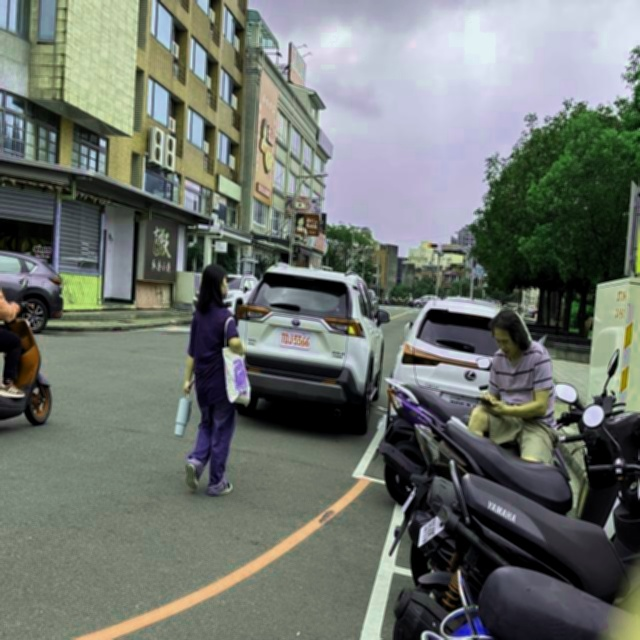Sin_Casco_Mascarrilla: (491, 311, 528, 358), (202, 264, 230, 304)
Sin_Chaleco: (194, 308, 235, 392)
